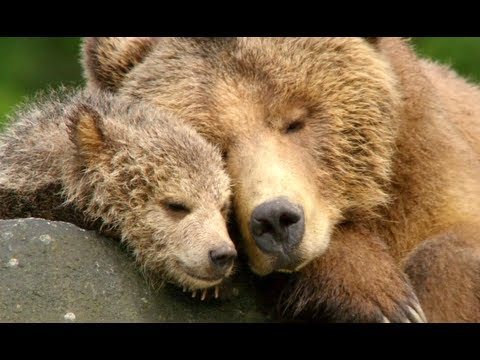bear: (60, 100, 248, 291)
